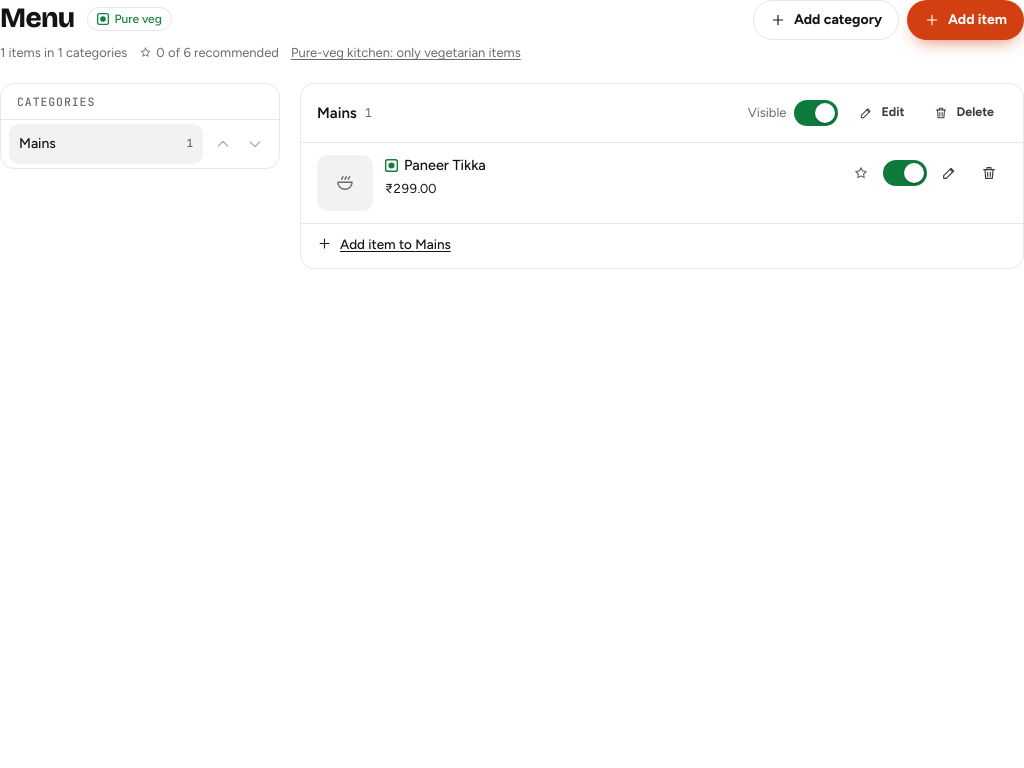
Test case: Menu: pure-veg kitchen › locks the item editor to vegetarian and explains a 422 PURE_VEG_VIOLATION
Check: the text "Pure veg" is shown, box [114,11,162,27]
Click the button named "Edit Paneer Tikka".
click(949, 173)  # box [931,155,967,191]
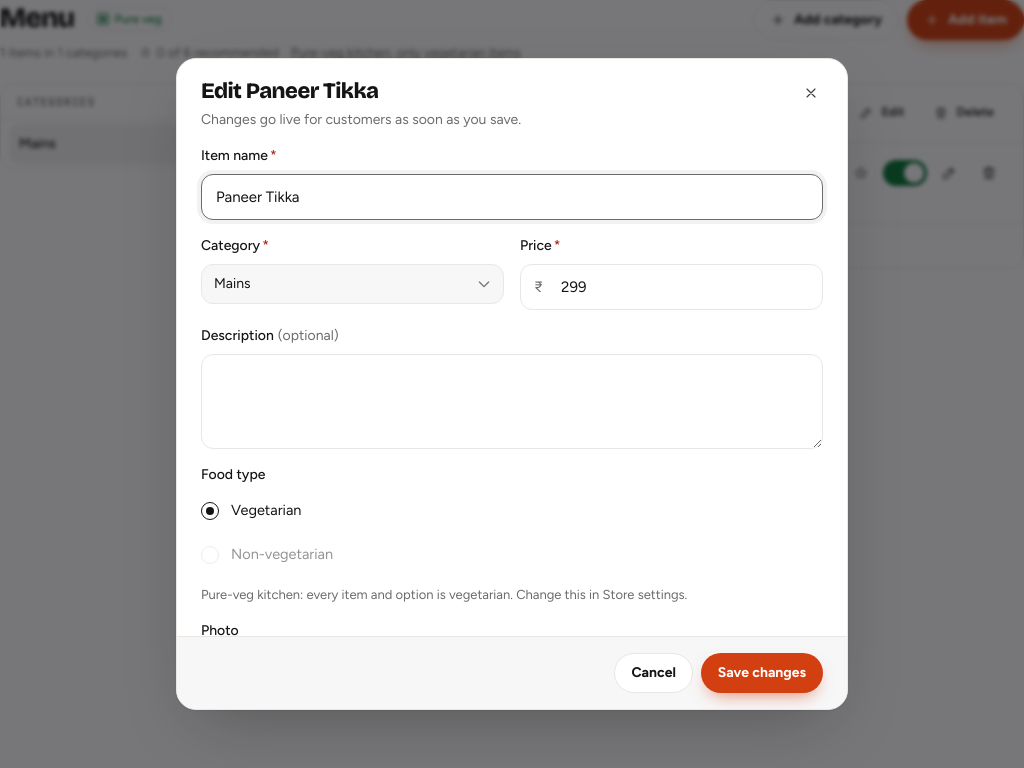
Check: the radio button labelled "Non-vegetarian" is disabled, box [201,545,333,564]
Click the button "Save changes".
click(762, 673)  # box [701,653,823,693]
(page scrolled)
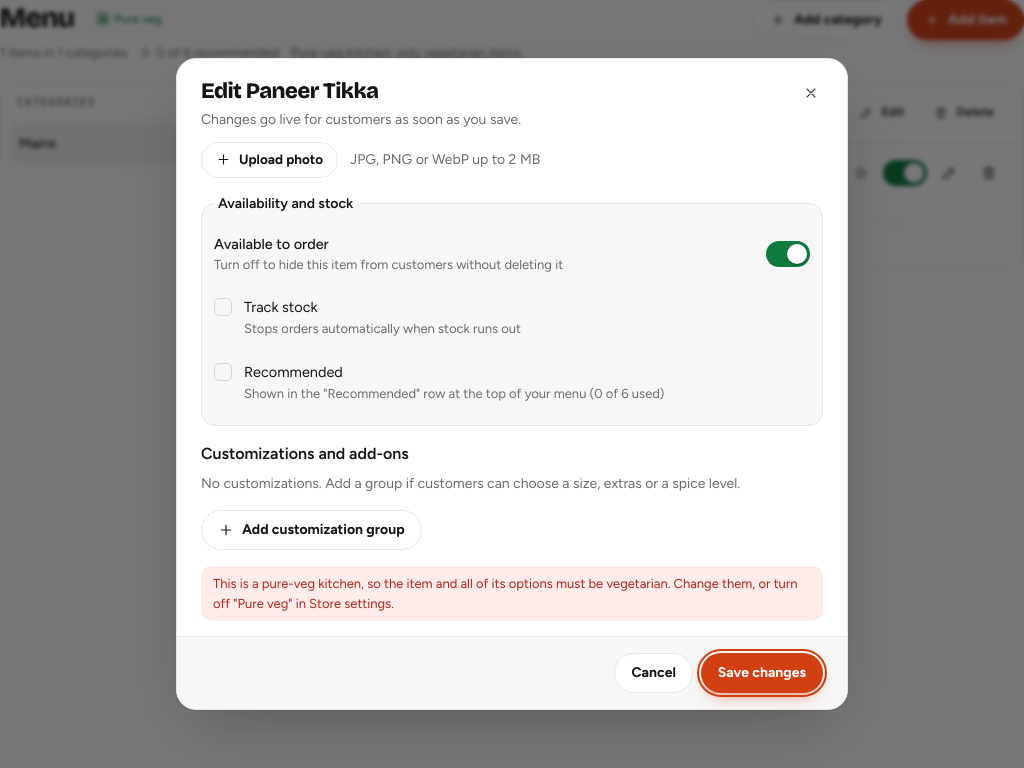
Check: the text "pure-veg kitchen, so the item and all of its options must be vegetarian" is shown, box [213,576,798,611]
